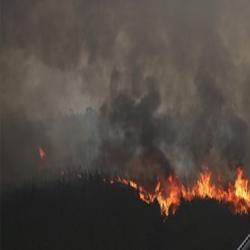fire: (149, 181, 184, 210), (189, 173, 219, 196), (234, 172, 248, 209)
smoke: (118, 0, 242, 149)
